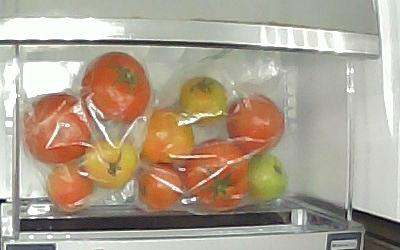tomato_vinyl: (82, 51, 150, 123), (24, 93, 92, 163), (183, 139, 248, 211), (227, 94, 285, 156), (141, 105, 196, 164), (84, 137, 140, 189), (180, 76, 231, 127), (47, 161, 96, 208), (138, 162, 184, 211), (247, 154, 290, 203)
